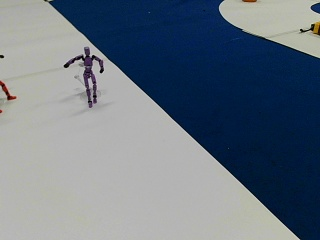pedestrian: (64, 47, 105, 106)
